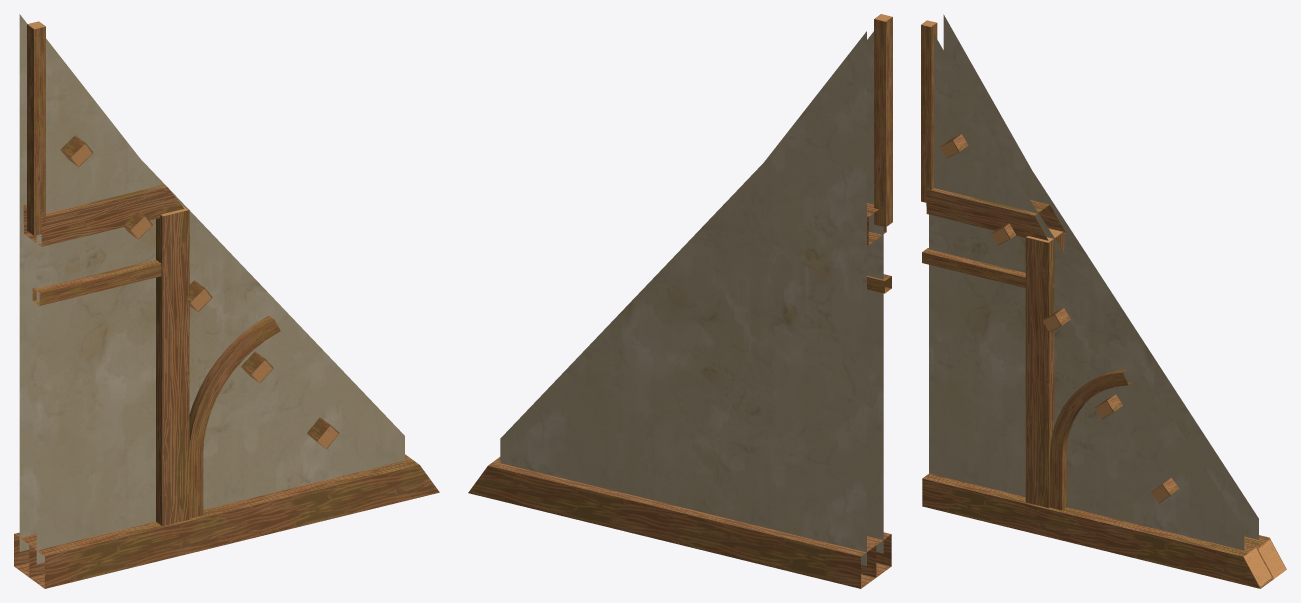
The model's file is Roof_Front_Brick6_Half_R.gltf.
3 renders of one model, left to right at view 1: azimuth 30°, elevation 25°; view 2: azimuth 150°, elevation 25°; view 3: azimuth 330°, elevation 25°, orthographic. The views are drawn at different scales.
Parts seen in each view (by area): view 1: Roof_Front_Brick6_Half_R; view 2: Roof_Front_Brick6_Half_R; view 3: Roof_Front_Brick6_Half_R.
Boxes of the visible parts, x1,y1,x2,y2 form: Roof_Front_Brick6_Half_R: [14, 14, 439, 588]; Roof_Front_Brick6_Half_R: [468, 14, 892, 588]; Roof_Front_Brick6_Half_R: [921, 14, 1286, 588].
Bounding box in the file's own units: 3.4 × 4.52 × 0.4895.
Materials: 2 (2 with a texture image).
